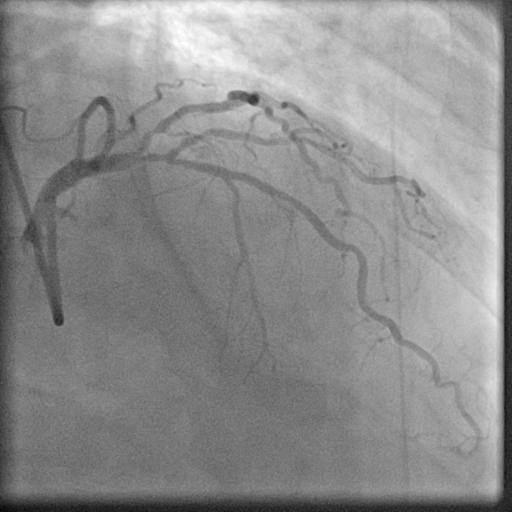Stenosis: (141, 123, 164, 139)
